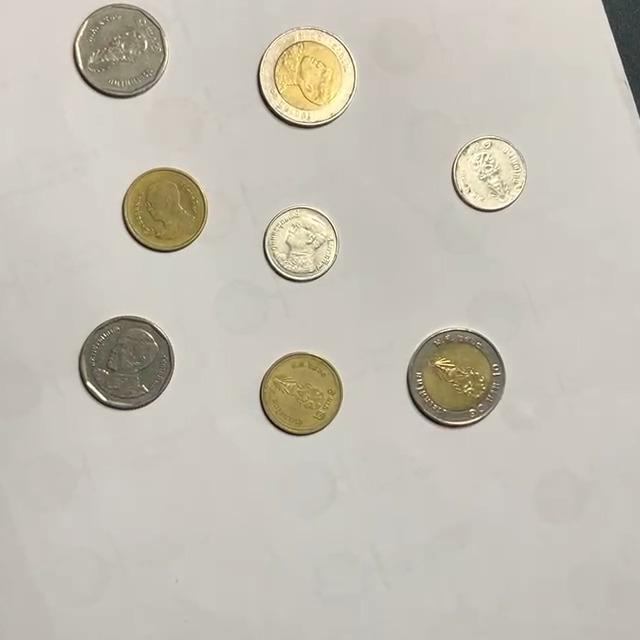1-baht: (263, 205, 340, 282), (451, 135, 529, 211)
10-baht: (406, 327, 508, 426), (258, 27, 358, 127)
2-baht: (122, 167, 208, 251), (259, 352, 344, 436)
5-baht: (73, 4, 171, 99), (79, 316, 176, 410)
